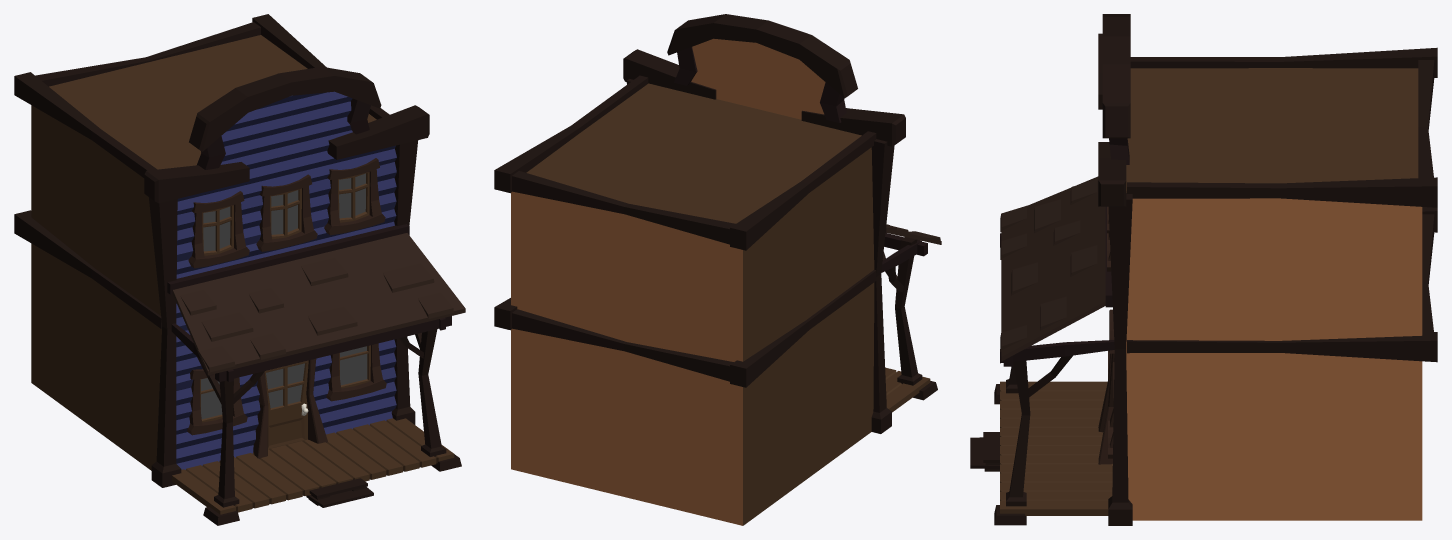
The model's file is Building02.fbx.
3 renders of one model, left to right at view 1: azimuth 30°, elevation 25°; view 2: azimuth 150°, elevation 25°; view 3: azimuth 270°, elevation 25°, orthographic. The views are drawn at different scales.
Parts seen in each view (by area): view 1: Building02; view 2: Building02; view 3: Building02.
Boxes of the visible parts, x1=… form: Building02: x1=14, y1=14, x2=465, y2=525; Building02: x1=494, y1=14, x2=941, y2=525; Building02: x1=970, y1=14, x2=1437, y2=525.
Bounding box in the file's own units: 564 × 741 × 743.
